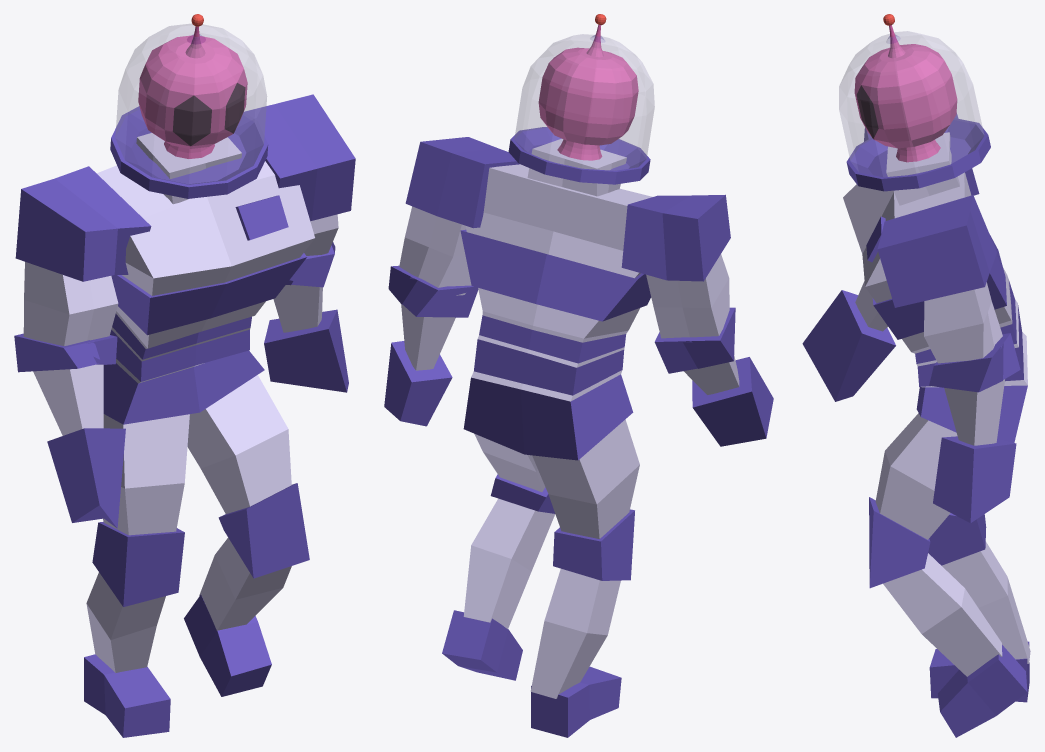
Rendered from CharacterOnlyModel.fbx.
The picture shows the model from 3 angles, left to right: view 1: azimuth 30°, elevation 25°; view 2: azimuth 150°, elevation 25°; view 3: azimuth 270°, elevation 25°; orthographic projection. The views are drawn at different scales.
Visible parts, largest first — view 1: Character; view 2: Character; view 3: Character.
Boxes of the visible parts, box(x1,y1,x2,y2) form: Character: box(14, 14, 355, 737); Character: box(384, 14, 773, 737); Character: box(802, 14, 1030, 737).
Size of the model in its own units: 147 by 288 by 86.68.
